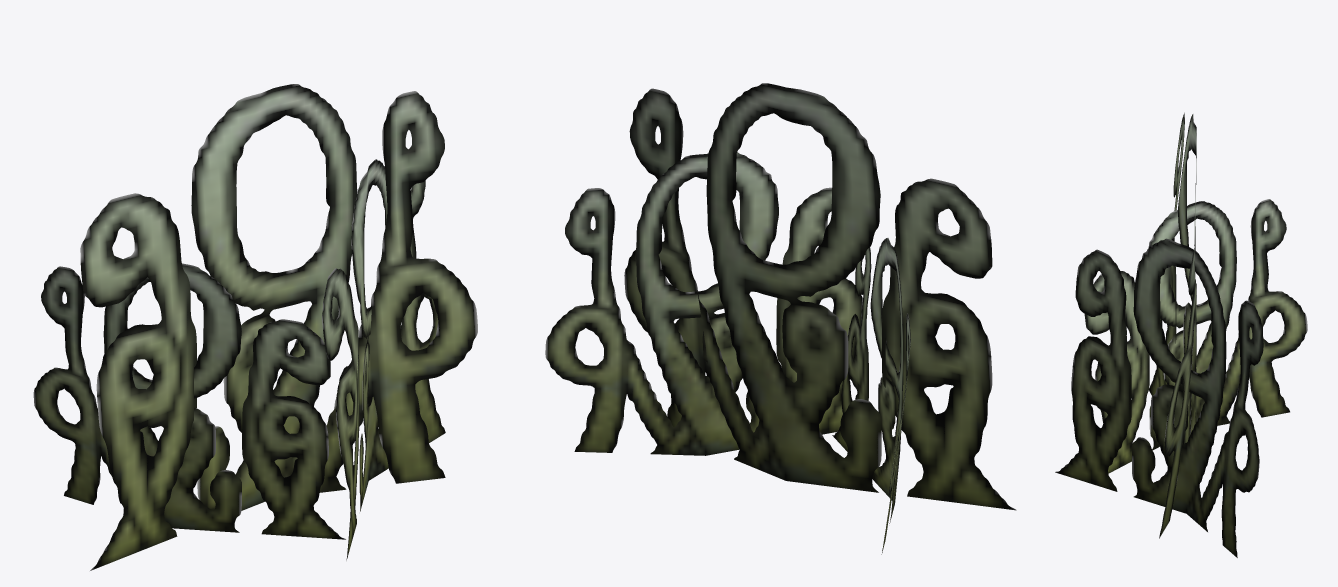
File: AdultLoopVines.fbx
The picture shows the model from 3 angles, left to right: view 1: azimuth 30°, elevation 25°; view 2: azimuth 150°, elevation 25°; view 3: azimuth 270°, elevation 25°; orthographic projection. The views are drawn at different scales.
Visible parts, largest first — view 1: AdultLoopVines; view 2: AdultLoopVines; view 3: AdultLoopVines.
Boxes of the visible parts, x1,y1,x2,y2 form: AdultLoopVines: [33, 84, 477, 570]; AdultLoopVines: [545, 83, 1016, 554]; AdultLoopVines: [1055, 112, 1307, 557].
Bounding box in the file's own units: 431 × 400 × 265.
1 material, 1 textured.
